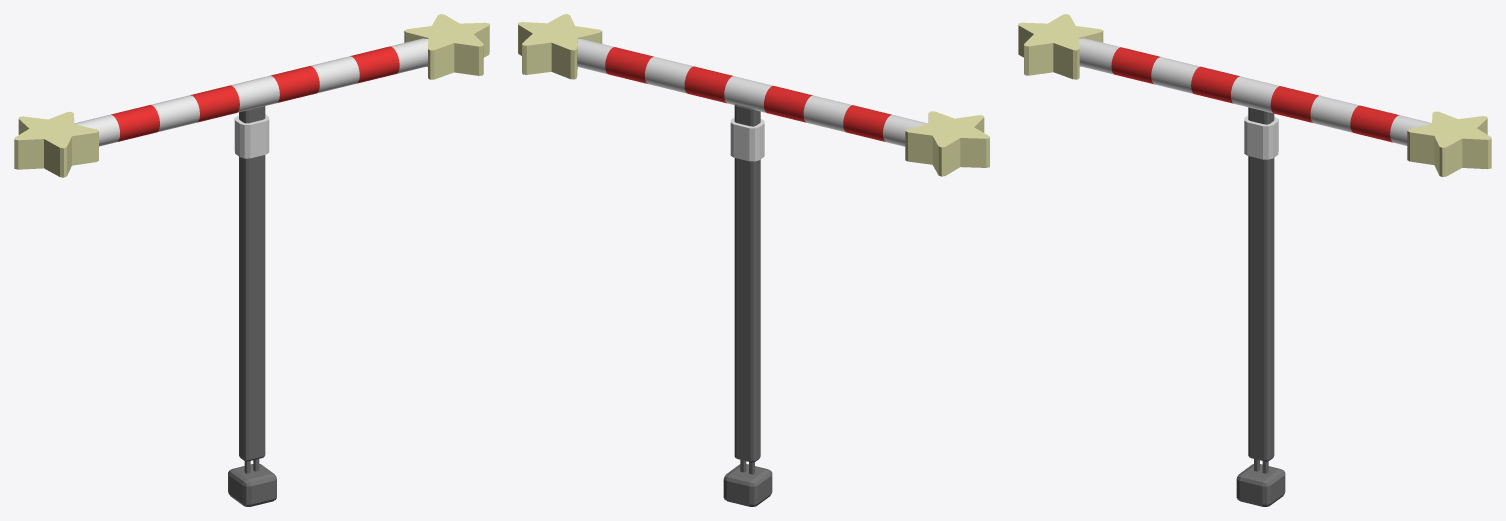
The picture shows the model from 3 angles, left to right: view 1: azimuth 30°, elevation 25°; view 2: azimuth 150°, elevation 25°; view 3: azimuth 330°, elevation 25°; orthographic projection.
Visible parts, largest first — view 1: pCube39, pCylinder8, pGear2, pGear3; view 2: pCube39, pCylinder8, pGear2, pGear3; view 3: pCube39, pCylinder8, pGear3, pGear2.
Part boxes in pixels (x1,y1,x2,y2): pCube39: (228,106,276,506); pCylinder8: (74,38,428,146); pGear2: (14,111,98,177); pGear3: (404,14,489,79); pCube39: (723,104,772,506); pCylinder8: (577,39,928,146); pGear2: (905,111,989,176); pGear3: (518,14,602,79); pCube39: (1236,107,1285,506); pCylinder8: (1079,38,1431,145); pGear3: (1407,111,1491,177); pGear2: (1018,14,1103,79).
Bounding box in the file's own units: 14.15 × 11.95 × 2.24.
